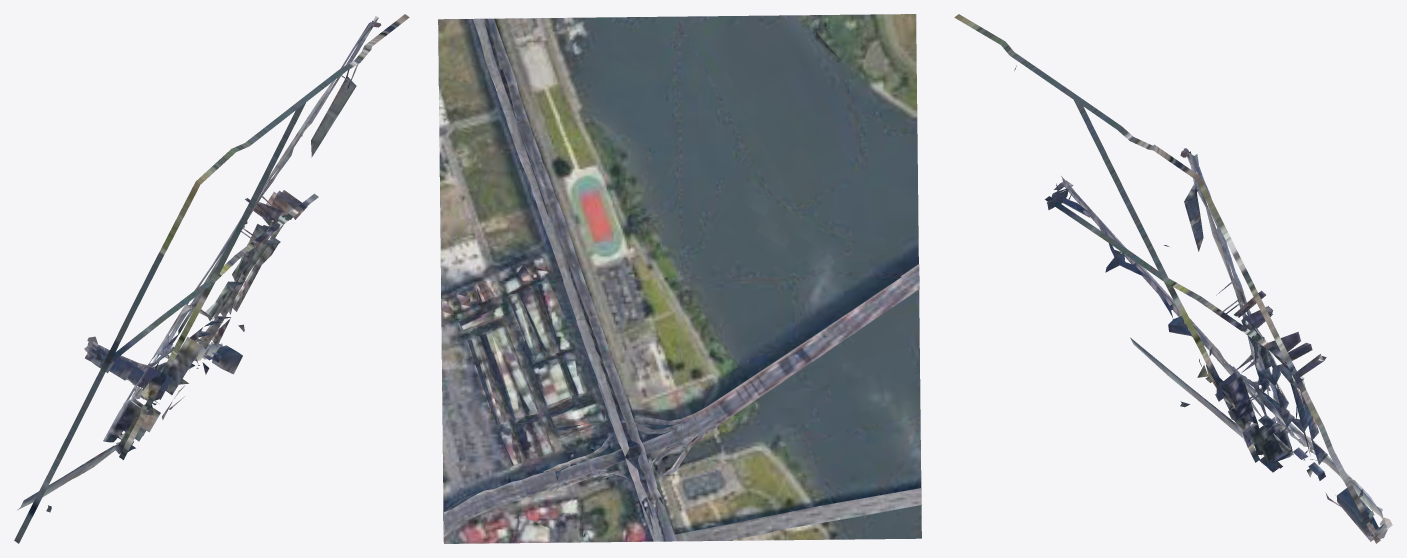
3 views of the same model, side by side, from view 1: azimuth 30°, elevation 25°; view 2: azimuth 150°, elevation 25°; view 3: azimuth 270°, elevation 25° (orthographic). The views are drawn at different scales.
Size of the model in its own units: 609 by 567 by 533.
Materials: 2 (2 with a texture image).
